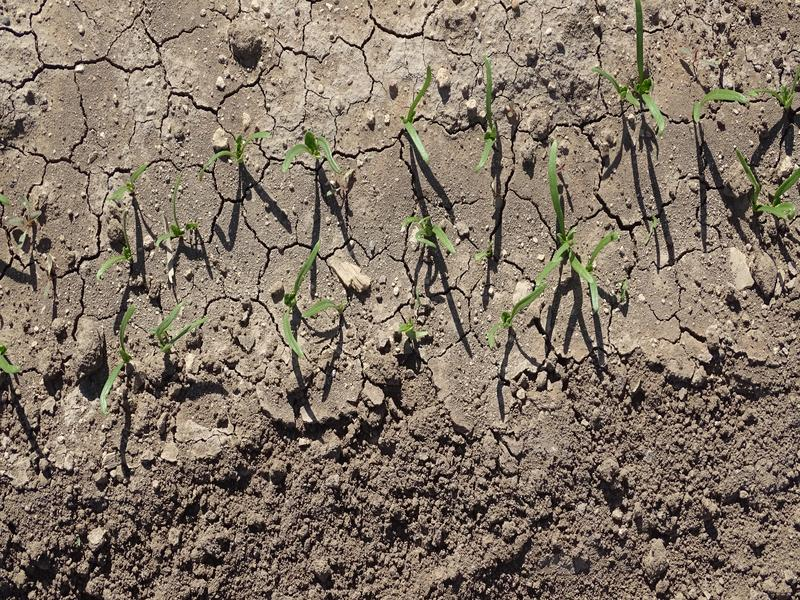Espinaca: (529, 147, 614, 306), (597, 1, 670, 130), (281, 244, 347, 351), (731, 141, 800, 224), (100, 300, 141, 406), (402, 68, 440, 159), (479, 58, 503, 175), (273, 133, 351, 168), (155, 302, 209, 351), (400, 217, 461, 259), (688, 83, 748, 122), (205, 131, 268, 167), (92, 231, 136, 278), (159, 202, 204, 246), (111, 161, 152, 204)
